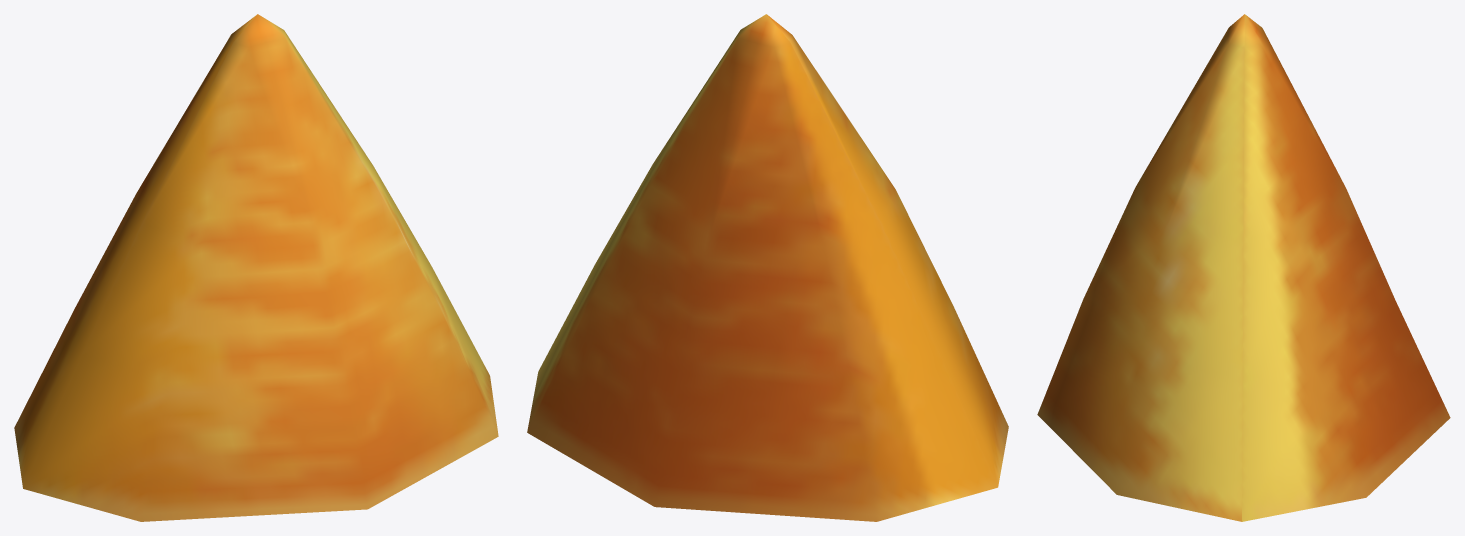
File: Snack 2.glb
3 renders of one model, left to right at view 1: azimuth 30°, elevation 25°; view 2: azimuth 150°, elevation 25°; view 3: azimuth 270°, elevation 25°, orthographic. The views are drawn at different scales.
Visible parts, largest first — view 1: SkillObj_Chevreuse_Show_Snack2_LOD0; view 2: SkillObj_Chevreuse_Show_Snack2_LOD0; view 3: SkillObj_Chevreuse_Show_Snack2_LOD0.
Boxes of the visible parts, x1=… form: SkillObj_Chevreuse_Show_Snack2_LOD0: x1=14, y1=14, x2=498, y2=521; SkillObj_Chevreuse_Show_Snack2_LOD0: x1=527, y1=14, x2=1008, y2=521; SkillObj_Chevreuse_Show_Snack2_LOD0: x1=1037, y1=14, x2=1450, y2=521.
Bounding box in the file's own units: 0.0269 × 0.0232 × 0.0216.
1 material, 1 textured.
